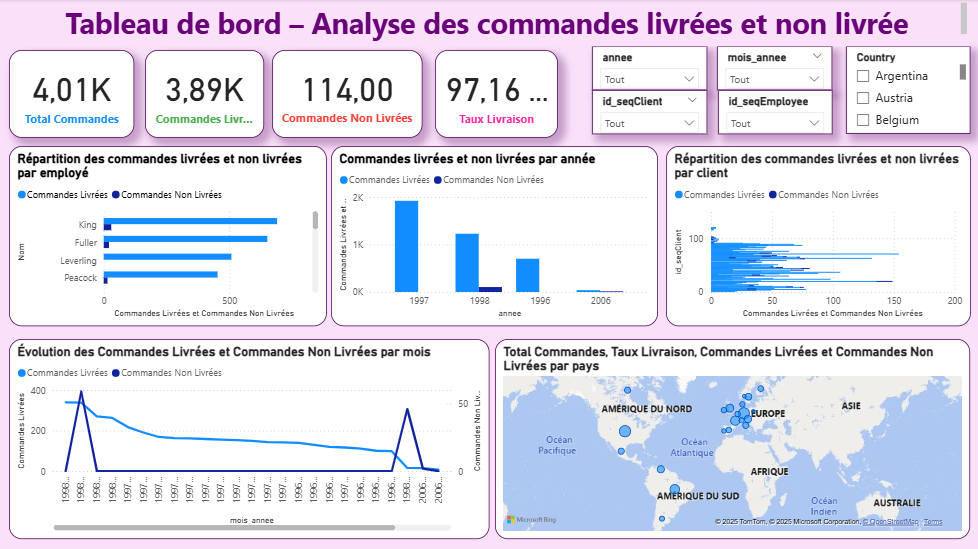

This screenshot's page, from the dashboard's own definition file:
{"tool":"powerbi","page":{"name":"Dashboard_biproject","canvas":[1280,720],"ordinal":0},"visuals":[{"type":"card","fields":{"Values":["TF_Commande.Total Commandes"]},"box":[11.5,66.2,164.2,115.2],"z":0},{"type":"card","fields":{"Values":["TF_Commande.Commandes Livrées"]},"box":[185.8,66.1,159.7,115.6],"z":1000},{"type":"card","fields":{"Values":["TF_Commande.Commandes Non Livrées"]},"box":[356.7,66.7,196.7,115],"z":2000},{"type":"card","fields":{"Values":["TF_Commande.Taux Livraison"]},"box":[568.4,65.8,169.5,115.4],"z":3000},{"type":"slicer","fields":{"Values":["Dim_Temps.annee"]},"box":[774.7,61.9,151.2,57.6],"z":4000},{"type":"slicer","fields":{"Values":["Dim_Temps.mois_annee"]},"box":[938.9,61.9,151.2,57.6],"z":5000},{"type":"slicer","fields":{"Values":["Dim_Client.Country"]},"box":[1107.4,61.9,162.7,115.2],"z":6000},{"type":"lineChart","title":"Évolution des Commandes Livrées et Commandes Non Livrées par mois","fields":{"Category":["Dim_Temps.mois_annee"],"Y":["TF_Commande.Commandes Livrées"],"Y2":["TF_Commande.Commandes Non Livrées"]},"box":[11.5,445,629.3,262.1],"z":7000},{"type":"clusteredBarChart","title":"Répartition des commandes livrées et non livrées par employé","fields":{"Category":["Dim_Employee.Nom"],"Y":["TF_Commande.Commandes Livrées","TF_Commande.Commandes Non Livrées"]},"box":[11.5,193,416.2,236.2],"z":8000},{"type":"clusteredColumnChart","title":"Commandes livrées et non livrées par année","fields":{"Category":["Dim_Temps.annee"],"Y":["TF_Commande.Commandes Livrées","TF_Commande.Commandes Non Livrées"]},"box":[433.4,193,427.7,236.2],"z":9000},{"type":"map","title":"Total Commandes, Taux Livraison, Commandes Livrées et Commandes Non Livrées par pays","fields":{"Category":["Dim_Client.Country"],"Size":["TF_Commande.Total Commandes"]},"box":[648,445,622.1,262.1],"z":10000},{"type":"slicer","fields":{"Values":["TF_Commande.id_seqClient"]},"box":[774.7,119.5,151.2,57.6],"z":11000},{"type":"slicer","fields":{"Values":["TF_Commande.id_seqEmployee"]},"box":[940.3,119.5,149.8,57.6],"z":12000},{"type":"barChart","title":"Répartition des commandes livrées et non livrées par client ","fields":{"Category":["Dim_Client.id_seqClient"],"Y":["TF_Commande.Commandes Livrées","TF_Commande.Commandes Non Livrées"]},"box":[871.2,193,398.9,236.2],"z":13000},{"type":"textbox","box":[11.5,0,1258.6,61.9],"z":14000}]}

Visuals, with their boxes in screenshot pixels (x1, y1, x2, y2), scaled from the page's 1280x720 canvas onto the 978x549 screenshot:
card - TF_Commande.Total Commandes: <bbox>9, 50, 134, 138</bbox>
card - TF_Commande.Commandes Livrées: <bbox>142, 50, 264, 139</bbox>
card - TF_Commande.Commandes Non Livrées: <bbox>273, 51, 423, 139</bbox>
card - TF_Commande.Taux Livraison: <bbox>434, 50, 564, 138</bbox>
slicer - Dim_Temps.annee: <bbox>592, 47, 707, 91</bbox>
slicer - Dim_Temps.mois_annee: <bbox>717, 47, 833, 91</bbox>
slicer - Dim_Client.Country: <bbox>846, 47, 970, 135</bbox>
"Évolution des Commandes Livrées et Commandes Non Livrées par mois" lineChart: <bbox>9, 339, 490, 539</bbox>
"Répartition des commandes livrées et non livrées par employé" clusteredBarChart: <bbox>9, 147, 327, 327</bbox>
"Commandes livrées et non livrées par année" clusteredColumnChart: <bbox>331, 147, 658, 327</bbox>
"Total Commandes, Taux Livraison, Commandes Livrées et Commandes Non Livrées par pays" map: <bbox>495, 339, 970, 539</bbox>
slicer - TF_Commande.id_seqClient: <bbox>592, 91, 707, 135</bbox>
slicer - TF_Commande.id_seqEmployee: <bbox>718, 91, 833, 135</bbox>
"Répartition des commandes livrées et non livrées par client " barChart: <bbox>666, 147, 970, 327</bbox>
textbox: <bbox>9, 0, 970, 47</bbox>
